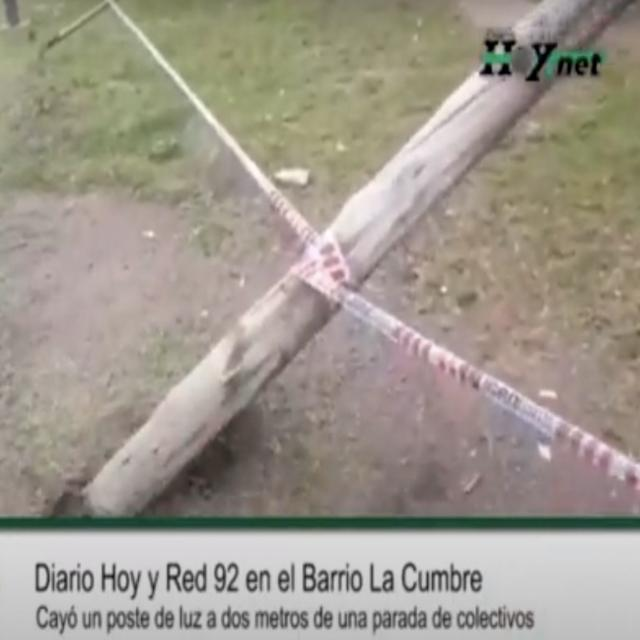Inclined Pole: (54, 2, 634, 516)
